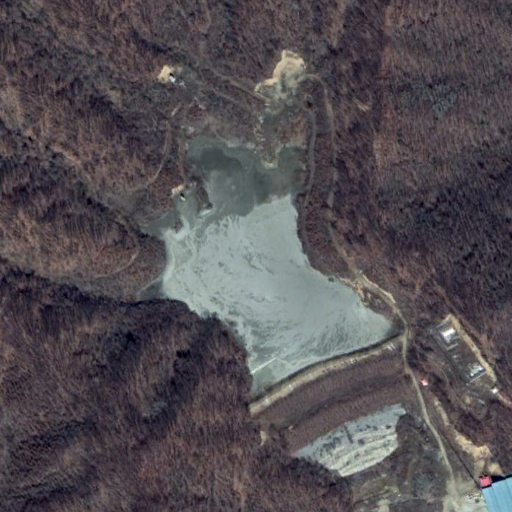tp: (137, 126, 408, 468)
